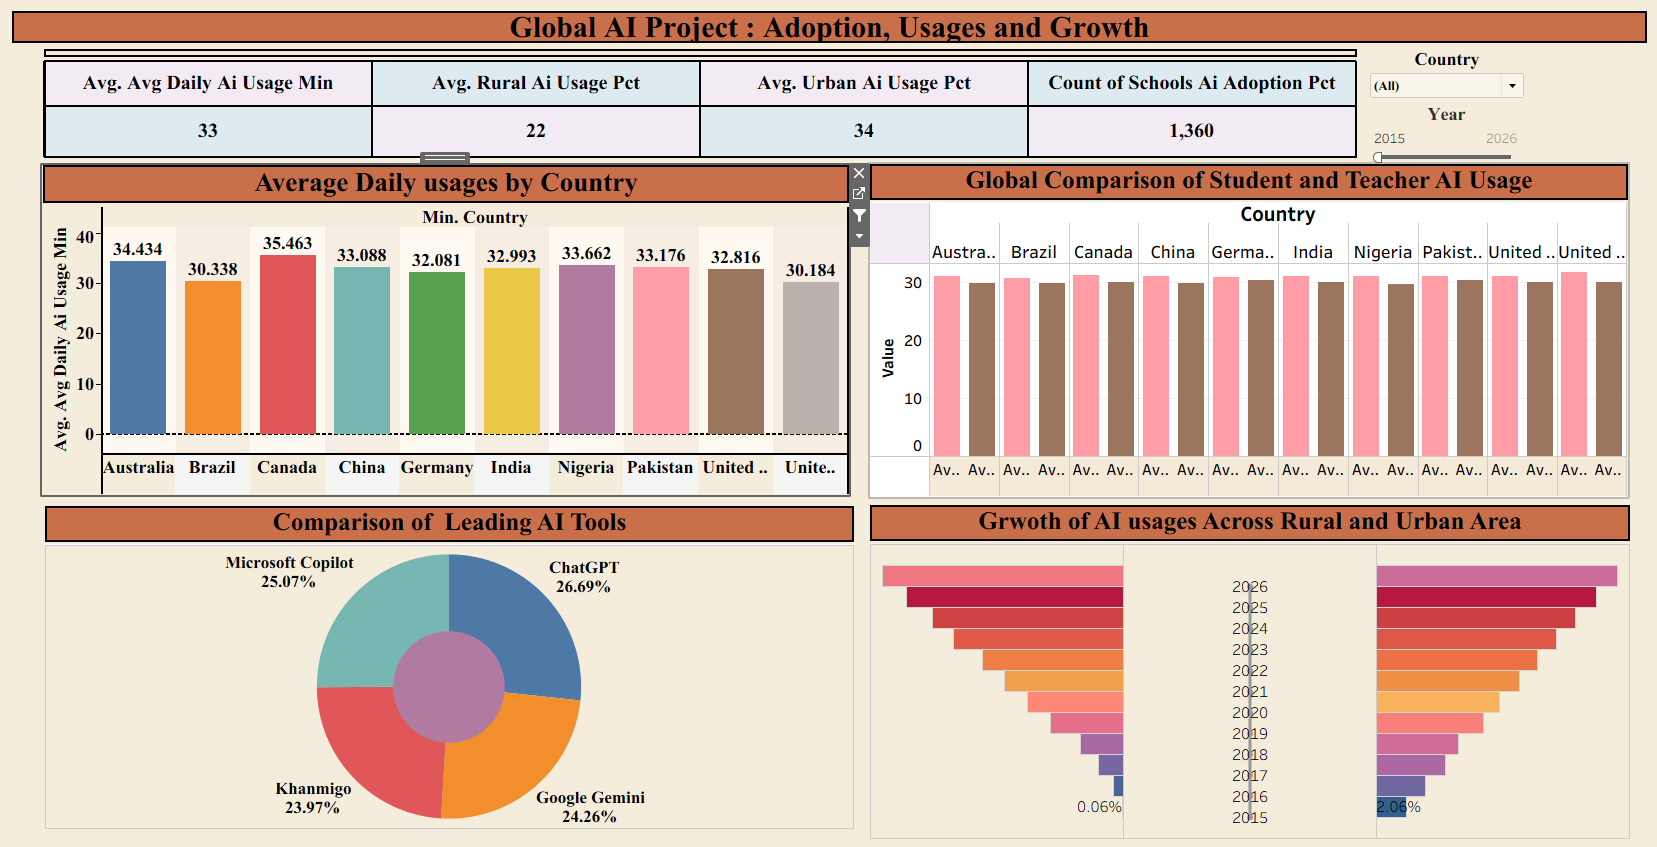

The dashboard page shown, as its layout file describes it:
{"tool":"tableau","page":{"name":"Dashboard 1","canvas":[1000,1000],"units":"permille","ordinal":0},"visuals":[{"type":"title","box":[4.8,9.4,844.5,45.8]},{"type":"legend","title":"Sheet 2","param":"[federated.127loor0xt43sw0zz3jo41iua51q].[__tableau_internal_object_id__].[cnt:G","box":[849.3,9.4,145.9,85.8]},{"type":"worksheet","title":"Sheet 1","mark":"Automatic","box":[6.6,68.2,633.1,172.7]},{"type":"filter","title":"Sheet 2","param":"[federated.127loor0xt43sw0zz3jo41iua51q].[none:country:nk]","box":[656.6,72.9,96.6,76.4]},{"type":"legend","title":"Sheet 2","param":"[federated.127loor0xt43sw0zz3jo41iua51q].[none:country:nk]","box":[849.3,95.2,145.9,291.4]},{"type":"filter","title":"Sheet 9","param":"[federated.127loor0xt43sw0zz3jo41iua51q].[none:Calculation_1475307243667457:nk]","box":[659.6,164.5,96.6,70.5]},{"type":"worksheet","title":"Sheet 9","mark":"Bar","rows":["Global AI in Education.csv_F7445F1BA9474E77A46D12EBB90062A0"],"cols":["Calculation_1475307243667457"],"box":[419.4,252.6,406.8,352.5]},{"type":"worksheet","title":"Sheet 2","mark":"Automatic","box":[5.4,253.8,409.2,352.5]},{"type":"legend","title":"Sheet 9","param":"[federated.127loor0xt43sw0zz3jo41iua51q].[none:Calculation_1475307243667457:nk]","box":[849.3,386.6,145.9,103.4]},{"type":"legend","title":"Sheet 11","param":"[federated.127loor0xt43sw0zz3jo41iua51q].[none:region:nk]","box":[849.3,490,145.9,173.9]},{"type":"worksheet","title":"Sheet 7","mark":"Automatic","rows":["schools_ai_adoption_pct","student_ai_usage_pct","teacher_ai_usage_pct"],"cols":["year"],"box":[420,616.9,406.8,359.6]},{"type":"worksheet","title":"Sheet 11","mark":"Automatic","rows":["Calculation_1900269232828419","Calculation_1900269232848901"],"box":[6,618.1,409.3,360.8]},{"type":"legend","title":"Sheet 11","param":"[federated.127loor0xt43sw0zz3jo41iua51q].[avg:schools_ai_adoption_pct:qk]","box":[849.3,663.9,145.9,56.4]}]}

Visuals, with their boxes on the dashboard's canvas, which has no fixed pixel size, in thousandths of its width and height (x1, y1, x2, y2). These are canvas units, not pixel positions in the 1657x847 screenshot, which may show the page scaled, cropped or inside an application window:
title: left=5, top=9, right=849, bottom=55
"Sheet 2" legend: left=849, top=9, right=995, bottom=95
"Sheet 1" worksheet: left=7, top=68, right=640, bottom=241
"Sheet 2" filter: left=657, top=73, right=753, bottom=149
"Sheet 2" legend: left=849, top=95, right=995, bottom=387
"Sheet 9" filter: left=660, top=164, right=756, bottom=235
"Sheet 9" worksheet (Bar marks): left=419, top=253, right=826, bottom=605
"Sheet 2" worksheet: left=5, top=254, right=415, bottom=606
"Sheet 9" legend: left=849, top=387, right=995, bottom=490
"Sheet 11" legend: left=849, top=490, right=995, bottom=664
"Sheet 7" worksheet: left=420, top=617, right=827, bottom=976
"Sheet 11" worksheet: left=6, top=618, right=415, bottom=979
"Sheet 11" legend: left=849, top=664, right=995, bottom=720
